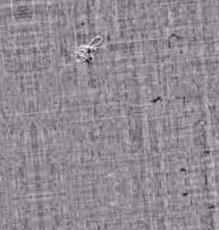snag: (70, 32, 105, 68)
